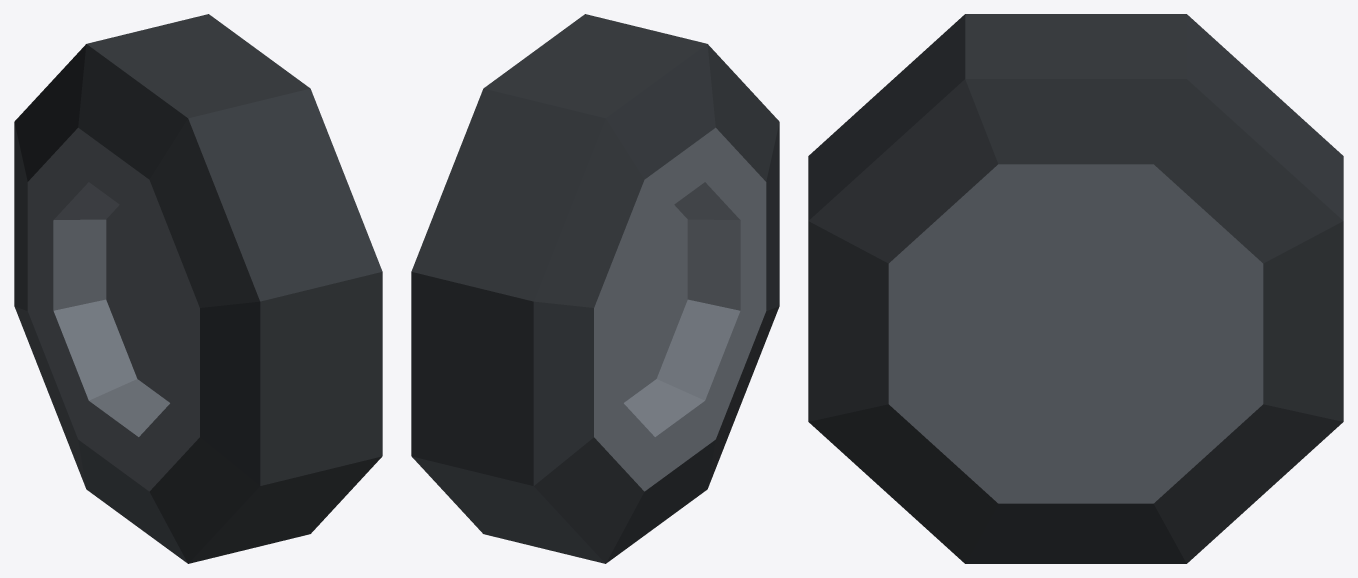
File: SM_Prop_Cart_Stall_Wheel_r.glb
3 renders of one model, left to right at view 1: azimuth 30°, elevation 25°; view 2: azimuth 150°, elevation 25°; view 3: azimuth 270°, elevation 25°, orthographic. The views are drawn at different scales.
Visible parts, largest first — view 1: SM_Prop_Cart_Stall_Wheel_r; view 2: SM_Prop_Cart_Stall_Wheel_r; view 3: SM_Prop_Cart_Stall_Wheel_r.
Part boxes in pixels (box(x1,y1,x2,y2)): SM_Prop_Cart_Stall_Wheel_r: box(14, 14, 382, 563); SM_Prop_Cart_Stall_Wheel_r: box(411, 14, 779, 563); SM_Prop_Cart_Stall_Wheel_r: box(808, 14, 1343, 563).
Bounding box in the file's own units: 0.1426 × 0.3585 × 0.3585.
Materials: 1 (1 with a texture image).
